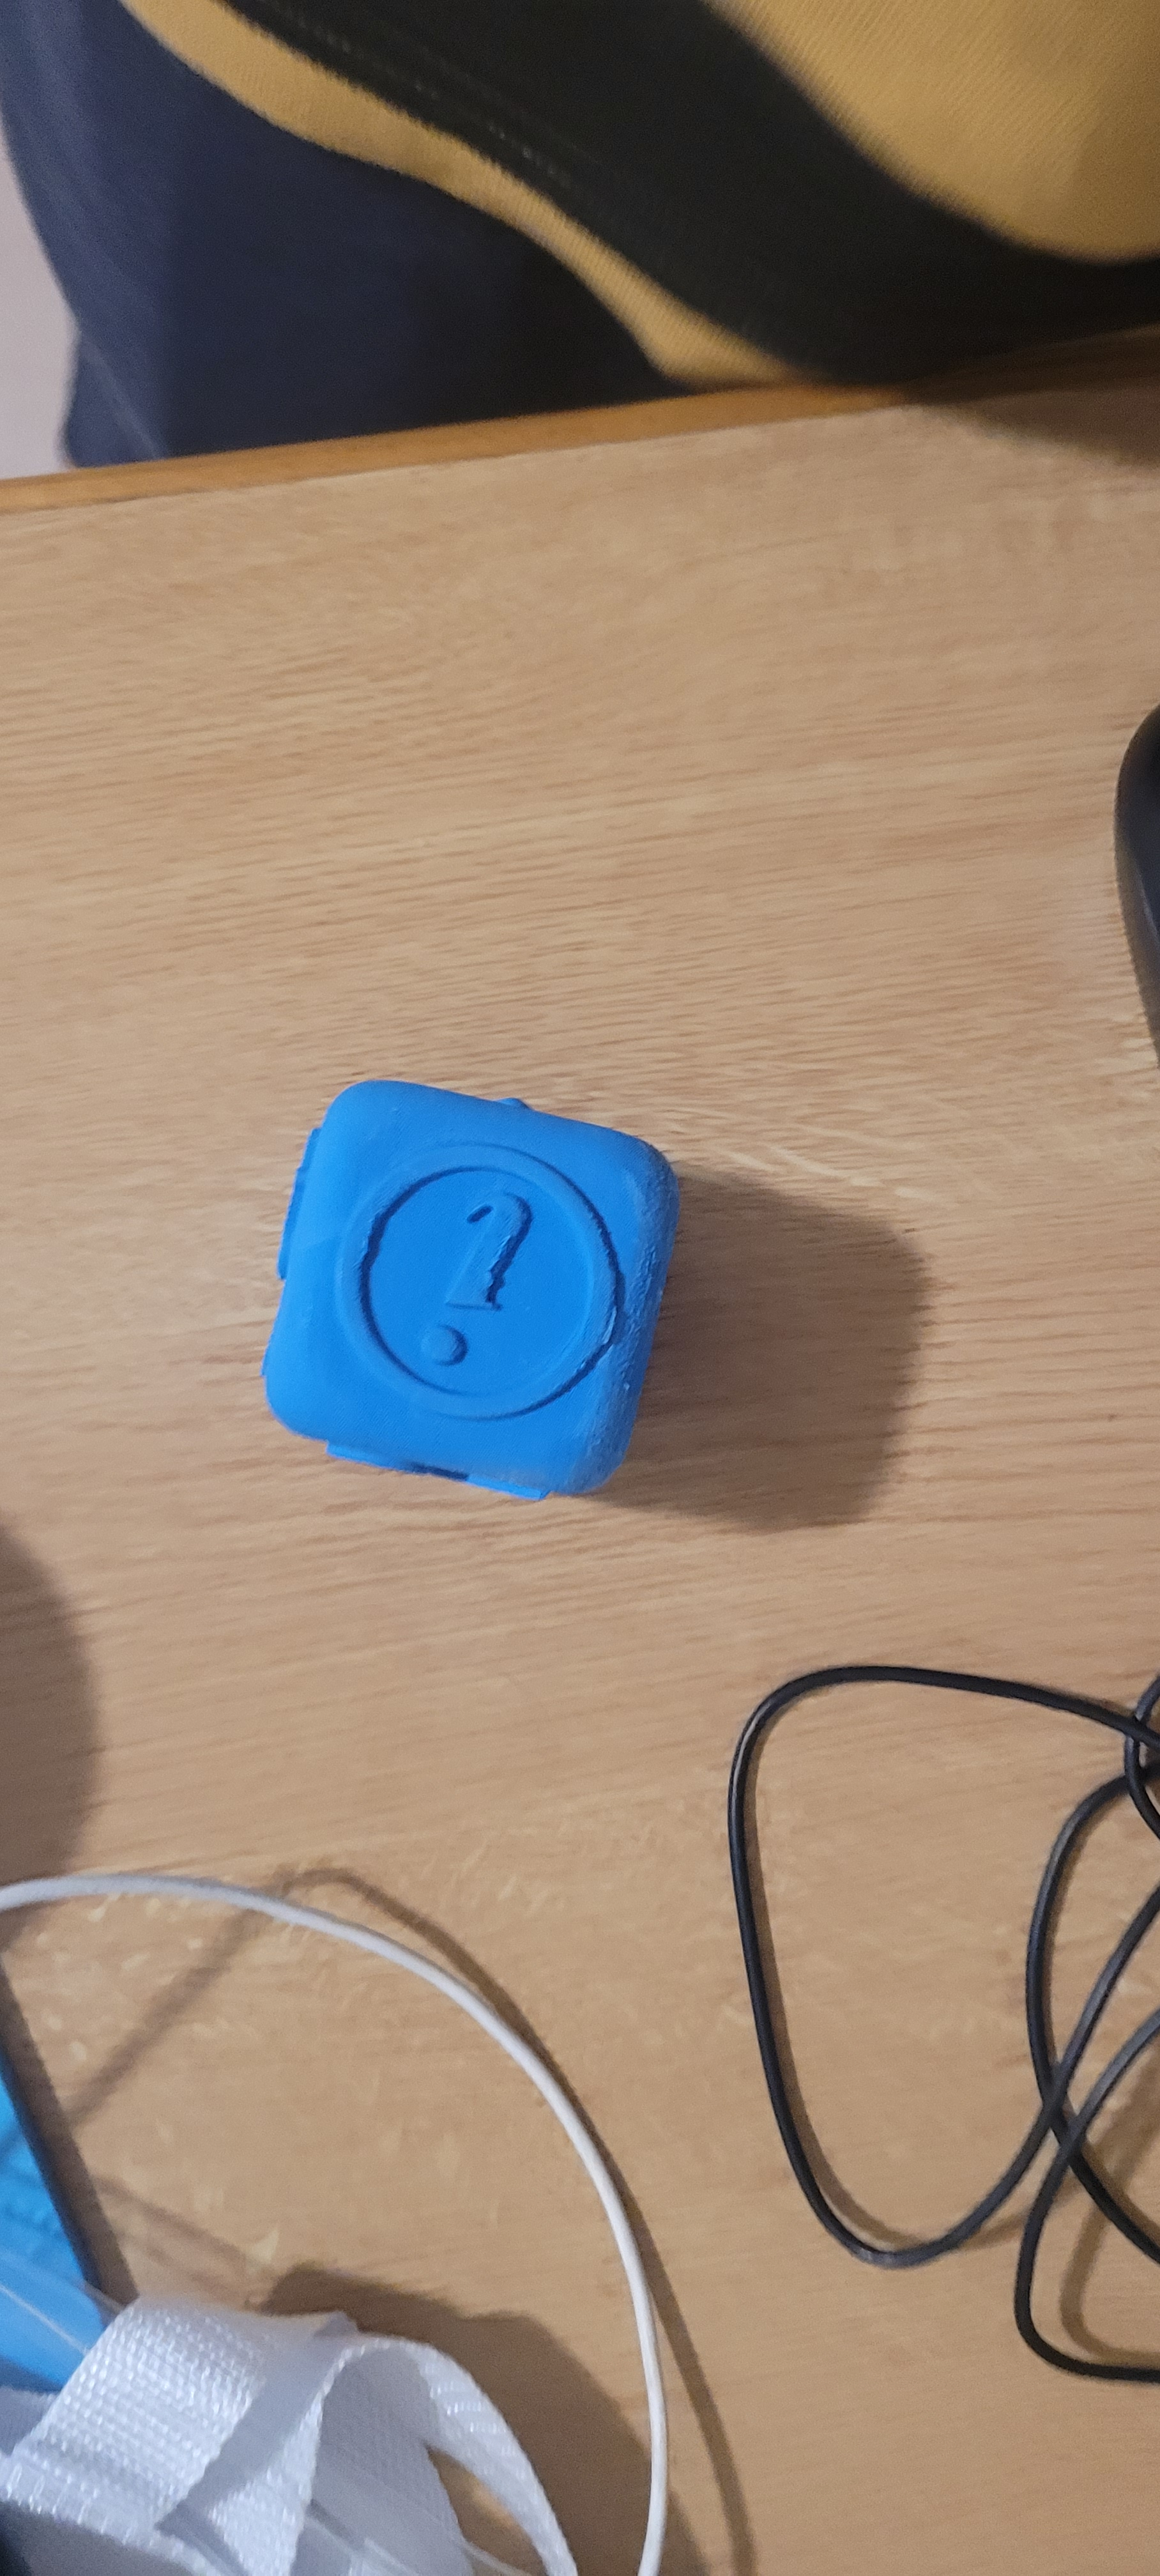Info: (357, 1092, 633, 1433)
